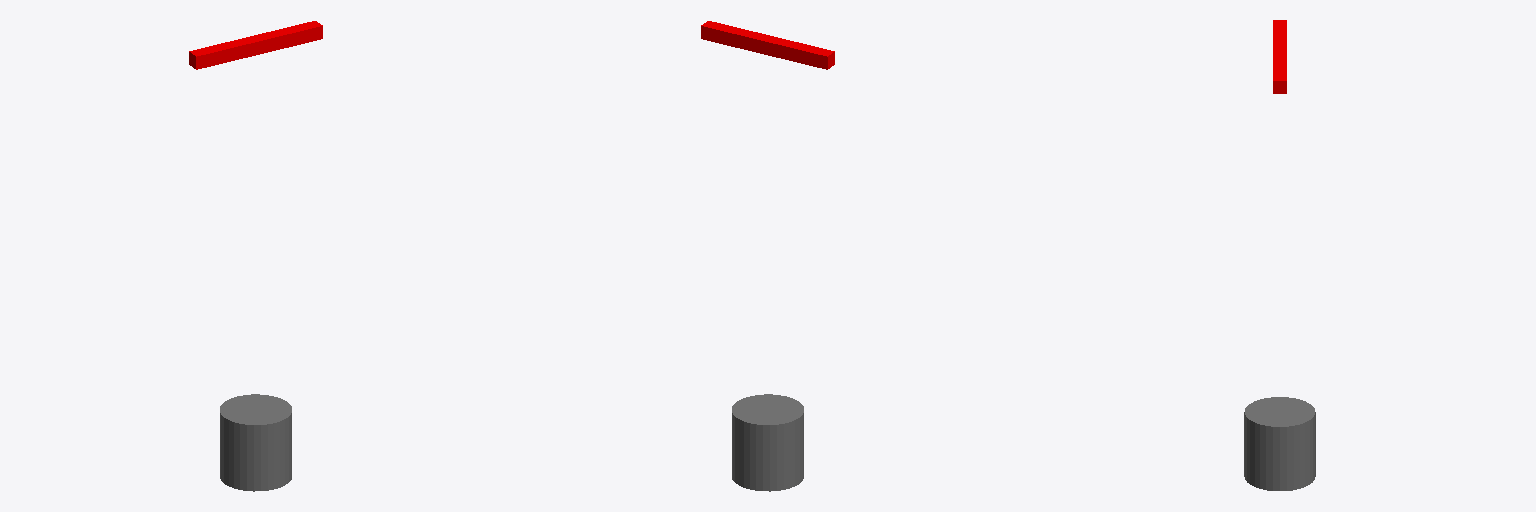
The robot description file, URDF, robot "single_joint_bot":
<?xml version="1.0"?>
<robot name="single_joint_bot">

  <link name="base_link">
    <visual>
      <geometry>
        <cylinder length="0.1" radius="0.05"/>
      </geometry>
      <material name="gray">
        <color rgba="0.5 0.5 0.5 1"/>
      </material>
    </visual>
  </link>

  <link name="moving_link">
    <visual>
      <origin xyz="0 0 0.1" rpy="0 0 0"/> <geometry>
        <box size="0.2 0.02 0.02"/> </geometry>
      <material name="red">
        <color rgba="1 0 0 1"/>
      </material>
    </visual>
  </link>

  <joint name="motor_1" type="revolute">
    <parent link="base_link"/>
    <child link="moving_link"/>
    <origin xyz="0 0 0.5" rpy="0 0 0"/>
    <axis xyz="1 0 0"/> <limit lower="-3.14" upper="3.14" effort="10" velocity="10"/>
  </joint>

</robot>

--- Render facts (derived) ---
Views: 3 orthographic renders of the robot side by side, from view 1: azimuth 30°, elevation 25°; view 2: azimuth 150°, elevation 25°; view 3: azimuth 270°, elevation 25°.
Robot: single_joint_bot — 2 links, 1 joints (1 revolute); root link base_link; default pose: every joint at zero.
Visible links, largest first — view 1: base_link, moving_link; view 2: base_link, moving_link; view 3: base_link, moving_link.
Boxes of the visible links, x1=… form: base_link: x1=220, y1=394, x2=291, y2=491; moving_link: x1=189, y1=21, x2=322, y2=69; base_link: x1=732, y1=394, x2=803, y2=491; moving_link: x1=701, y1=21, x2=834, y2=69; base_link: x1=1244, y1=397, x2=1315, y2=490; moving_link: x1=1273, y1=20, x2=1286, y2=93.
Bounding box of the posed robot: 0.2 × 0.1 × 0.66 m (x, y, z).
Geometry: primitives only (box / cylinder / sphere), no mesh files.
